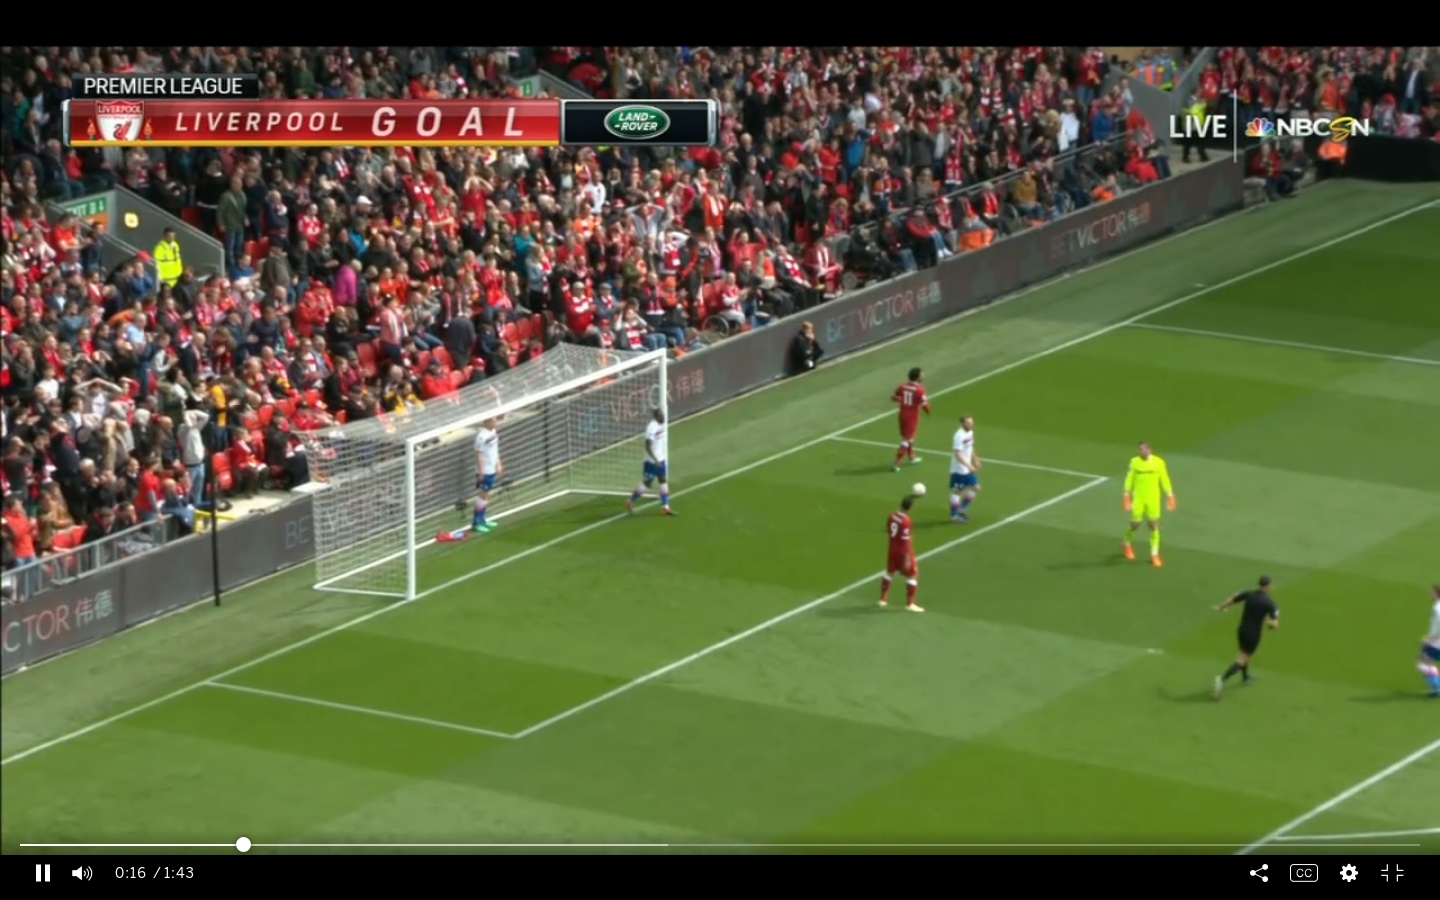referee: (1205, 569, 1282, 699)
soccer players: (1119, 442, 1181, 568), (627, 403, 675, 519), (468, 414, 510, 529), (879, 497, 918, 614), (945, 408, 984, 525), (890, 366, 930, 474)
soccerball: (907, 479, 932, 500)
